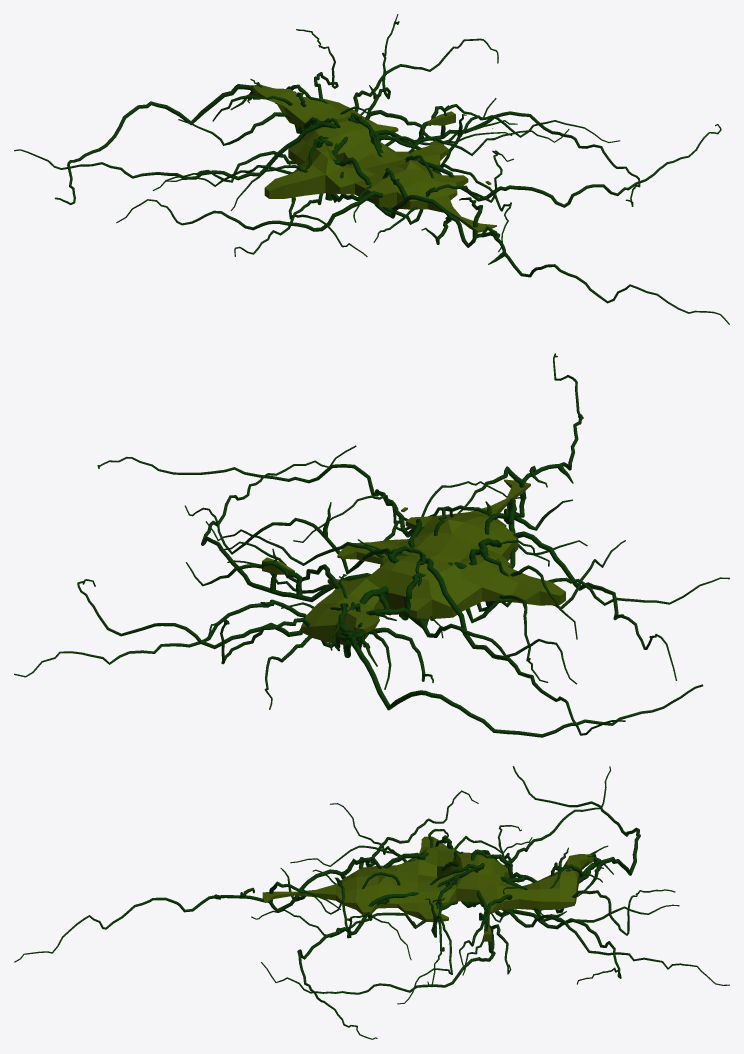
File: Liana2 1.fbx
The picture shows the model from 3 angles, top to bottom: view 1: azimuth 30°, elevation 25°; view 2: azimuth 150°, elevation 25°; view 3: azimuth 270°, elevation 25°; orthographic projection. The views are drawn at different scales.
Parts seen in each view (by area): view 1: IVY_Curve.002, IvyLeaf; view 2: IVY_Curve.002, IvyLeaf; view 3: IVY_Curve.002, IvyLeaf.
Part boxes in pixels (<box>): IVY_Curve.002: <box>14,14,729,324</box>; IvyLeaf: <box>252,84,496,232</box>; IVY_Curve.002: <box>14,353,729,737</box>; IvyLeaf: <box>262,479,565,644</box>; IVY_Curve.002: <box>14,766,729,1039</box>; IvyLeaf: <box>262,836,593,941</box>.
Size of the model in its own units: 272 by 25.34 by 317.
